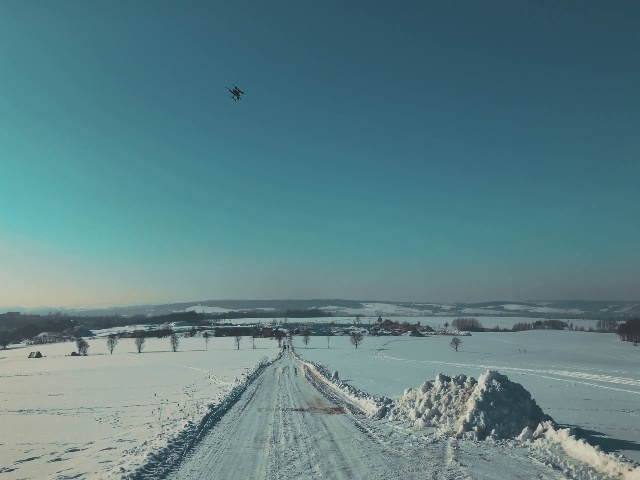drone: (223, 83, 245, 101)
